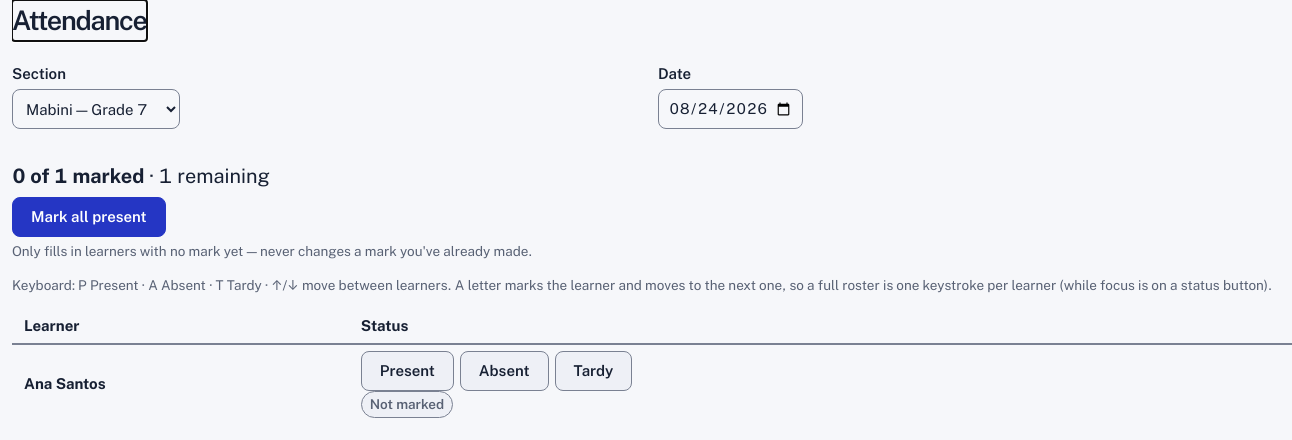
AttendanceScreen › never shows a previous section's roster after switching to a section whose load fails
The image size is (1292, 440).
Expected: the column heading "Ana Santos" is shown, [12,344,349,424]
Note: Switch to Section B, whose load fails.
Select "Rizal — Grade 8" in the dropdown labelled "Section" at (96, 109), box [12,89,180,129]
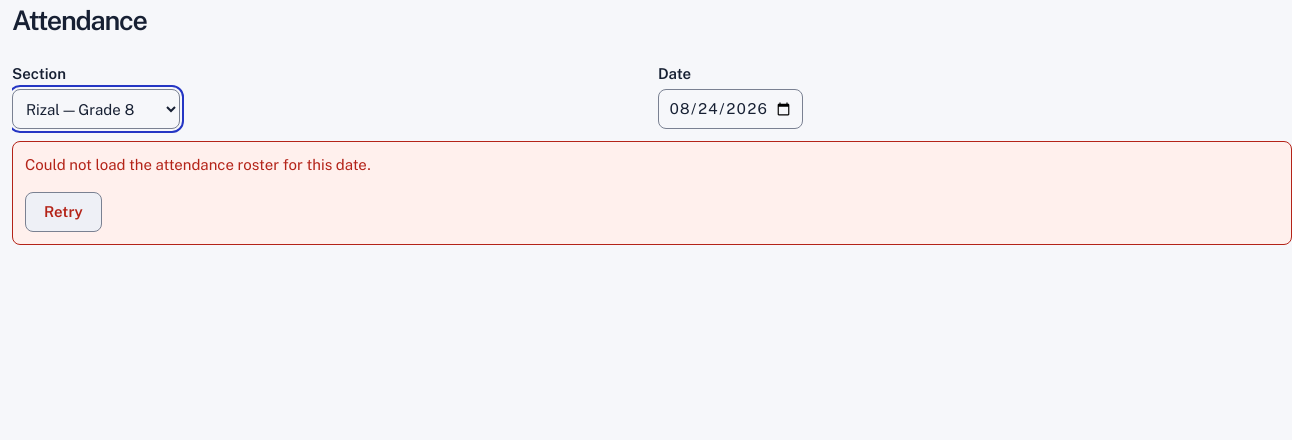
Expected: the text "Could not load the attendance roster for this date." is shown, [25,156,371,173]
Expected: the column heading "Ana Santos" is gone
